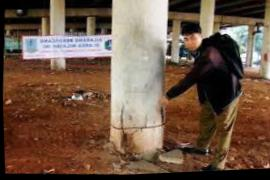crack: (109, 107, 164, 131)
damage: (119, 132, 135, 153)
